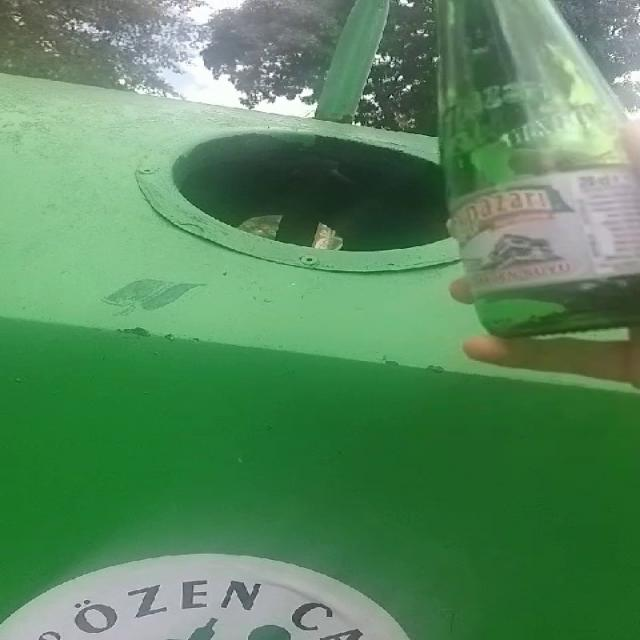glass: (441, 0, 640, 338)
